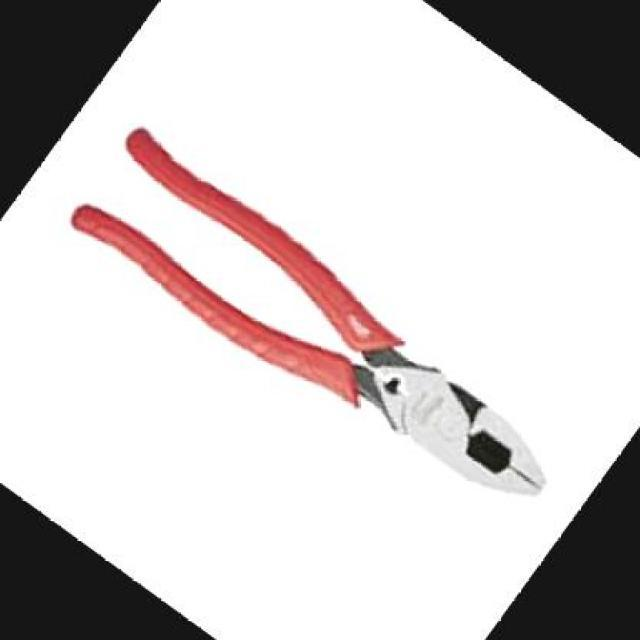pliers: (22, 94, 606, 594)
